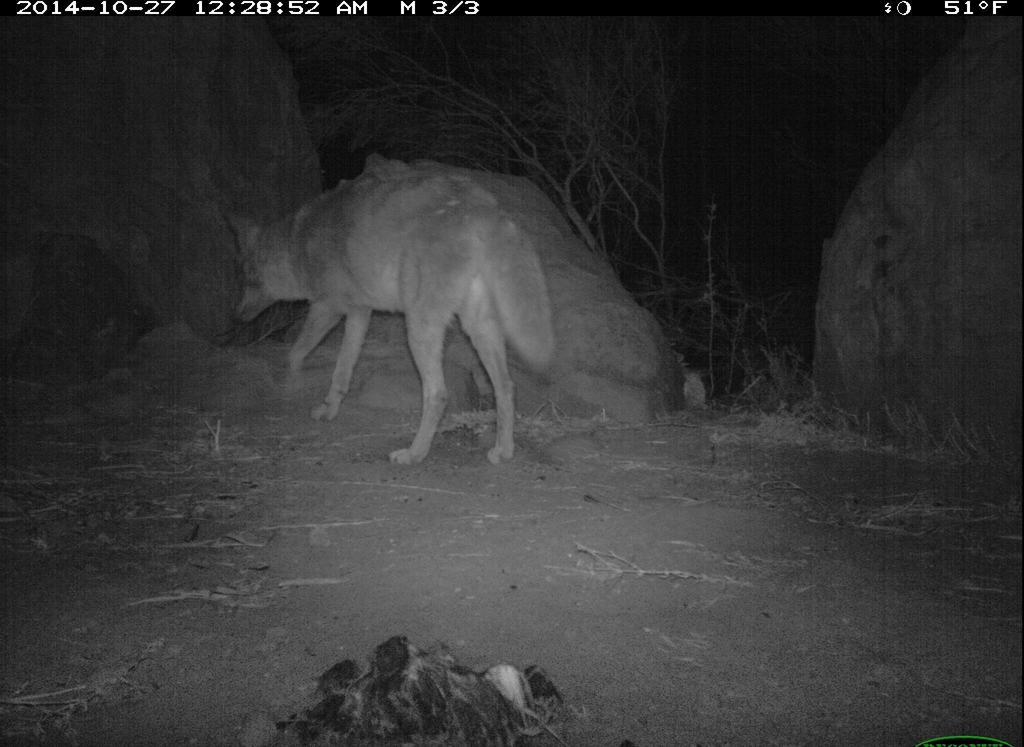coyote: (212, 155, 573, 484)
